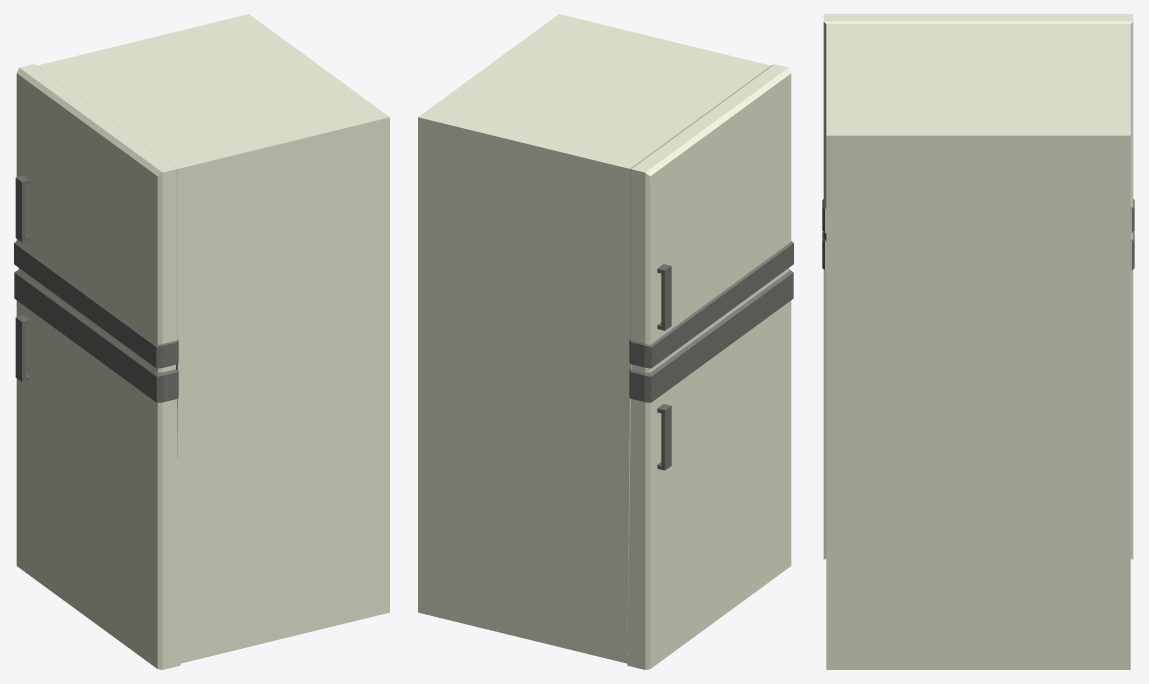
File: Fridge.fbx
3 renders of one model, left to right at view 1: azimuth 30°, elevation 25°; view 2: azimuth 150°, elevation 25°; view 3: azimuth 270°, elevation 25°, orthographic. The views are drawn at different scales.
Parts seen in each view (by area): view 1: Cube.8173; view 2: Cube.8173; view 3: Cube.8173.
Boxes of the visible parts, x1,y1,x2,y2 form: Cube.8173: (14,14,389,669); Cube.8173: (418,14,793,669); Cube.8173: (822,14,1134,669).
Bounding box in the file's own units: 111 × 220 × 116.
1 material, 1 textured.
